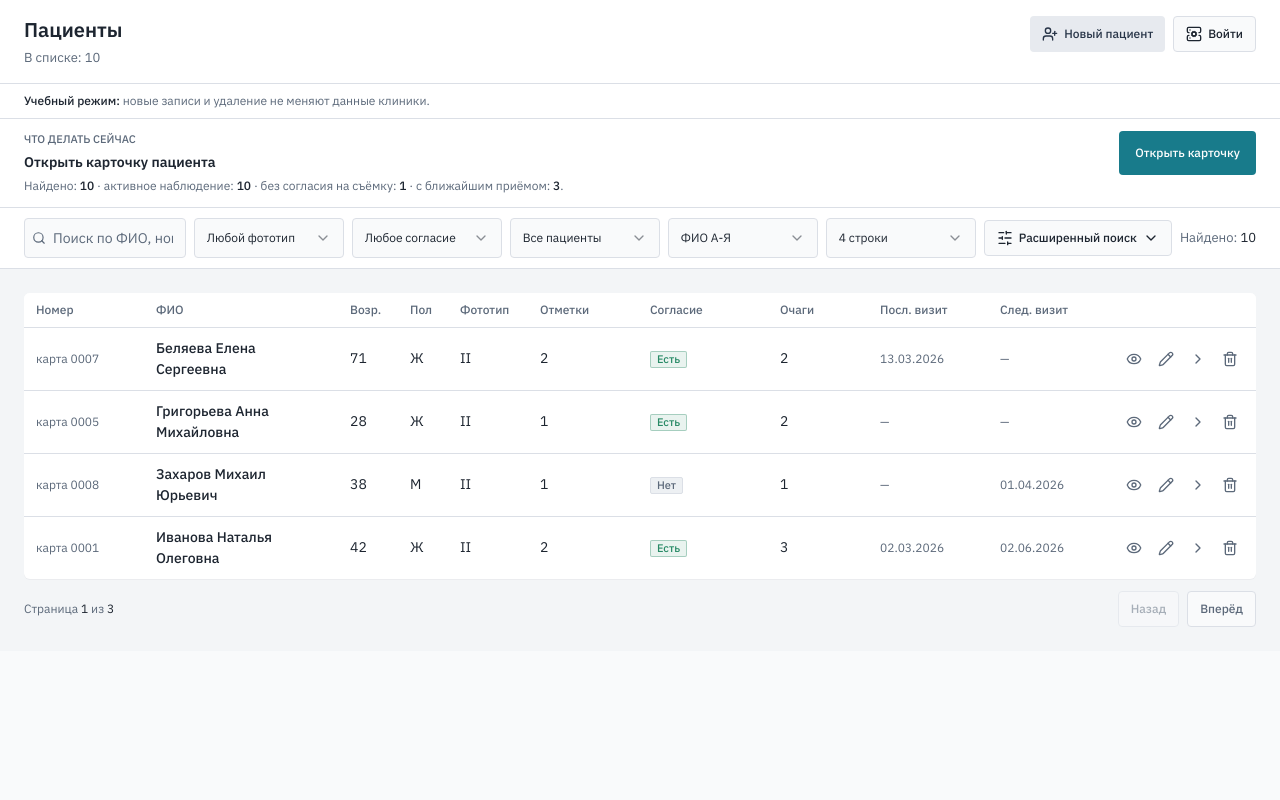
PatientsPage › saves patient edits locally and updates the row without changing total count
Click the button named "Редактировать пациента Иванова Наталья Олеговна": (1166, 548) left=1152, top=534, right=1180, bottom=562
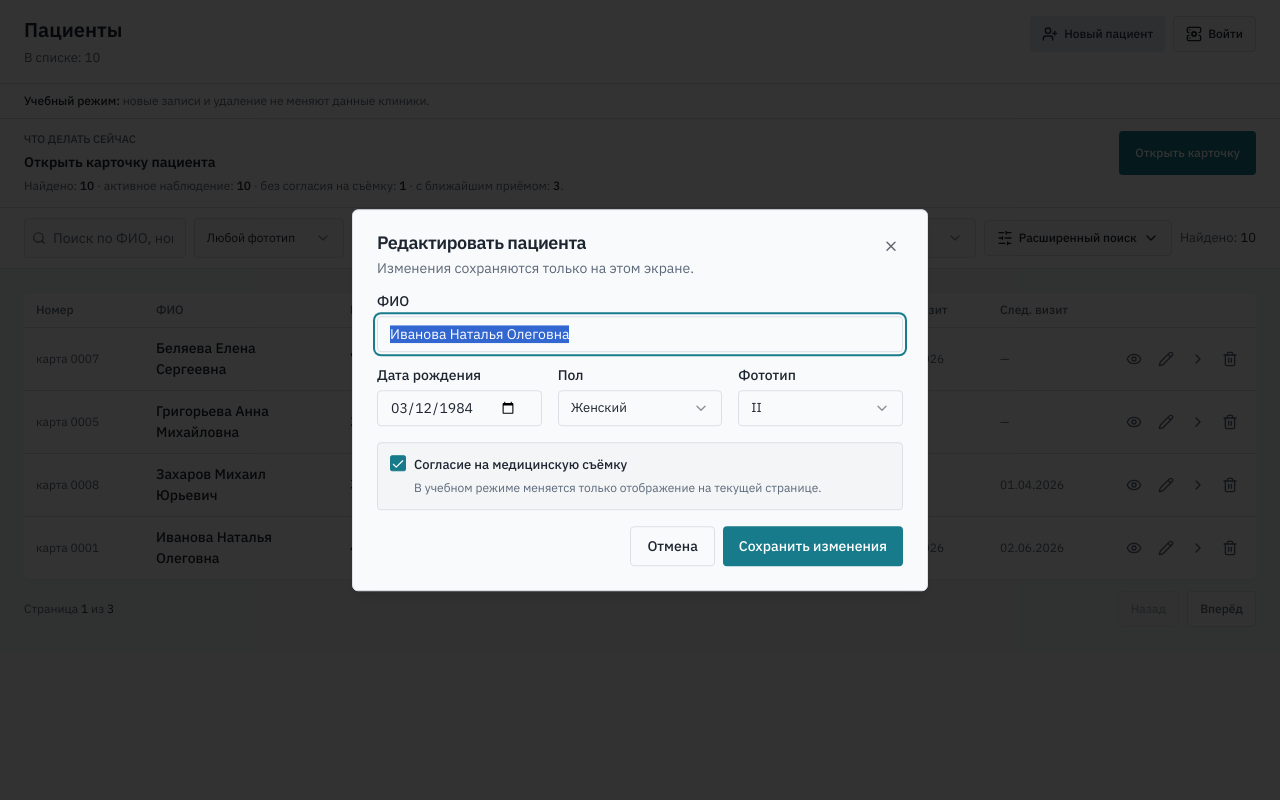
Replace the text in the field labelled "ФИО" with "Иванова Наталья Тестовая": (640, 334) left=377, top=316, right=903, bottom=352
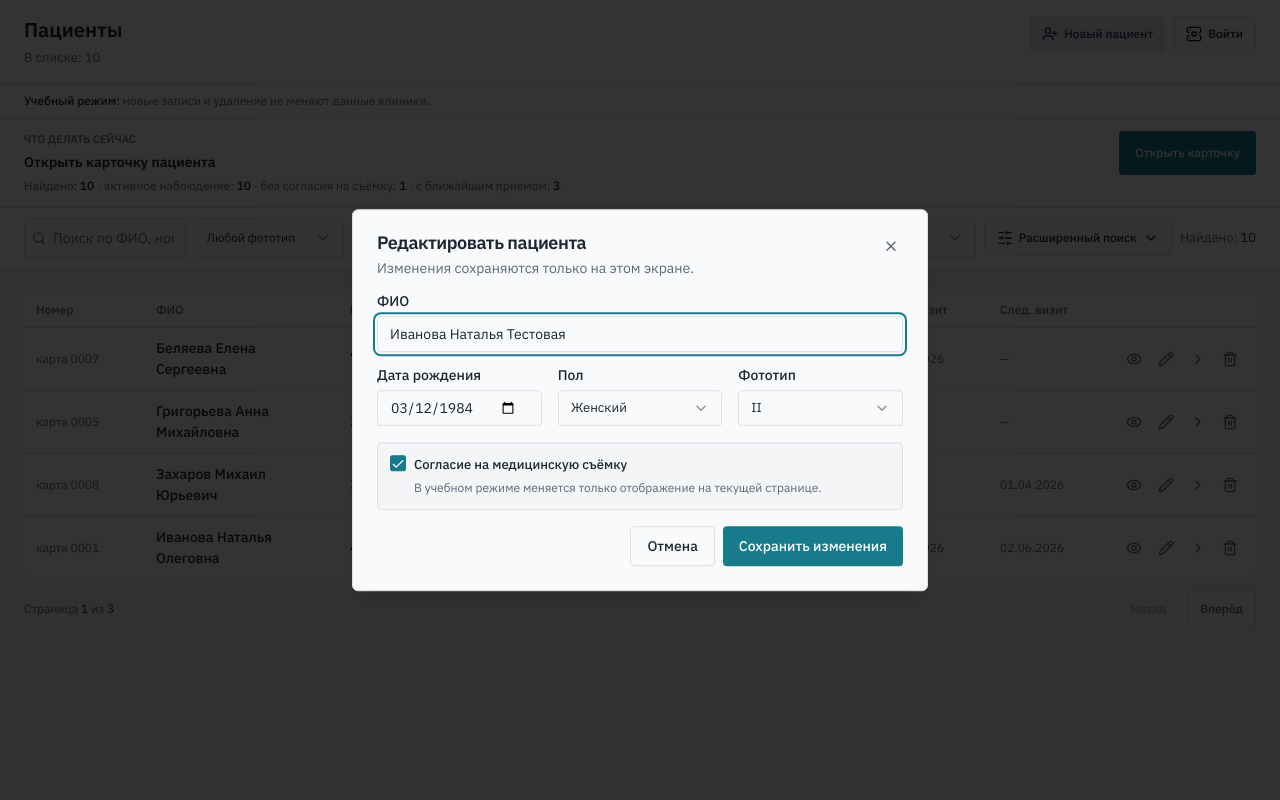
Click the button "Сохранить изменения": (813, 546) left=723, top=526, right=903, bottom=566
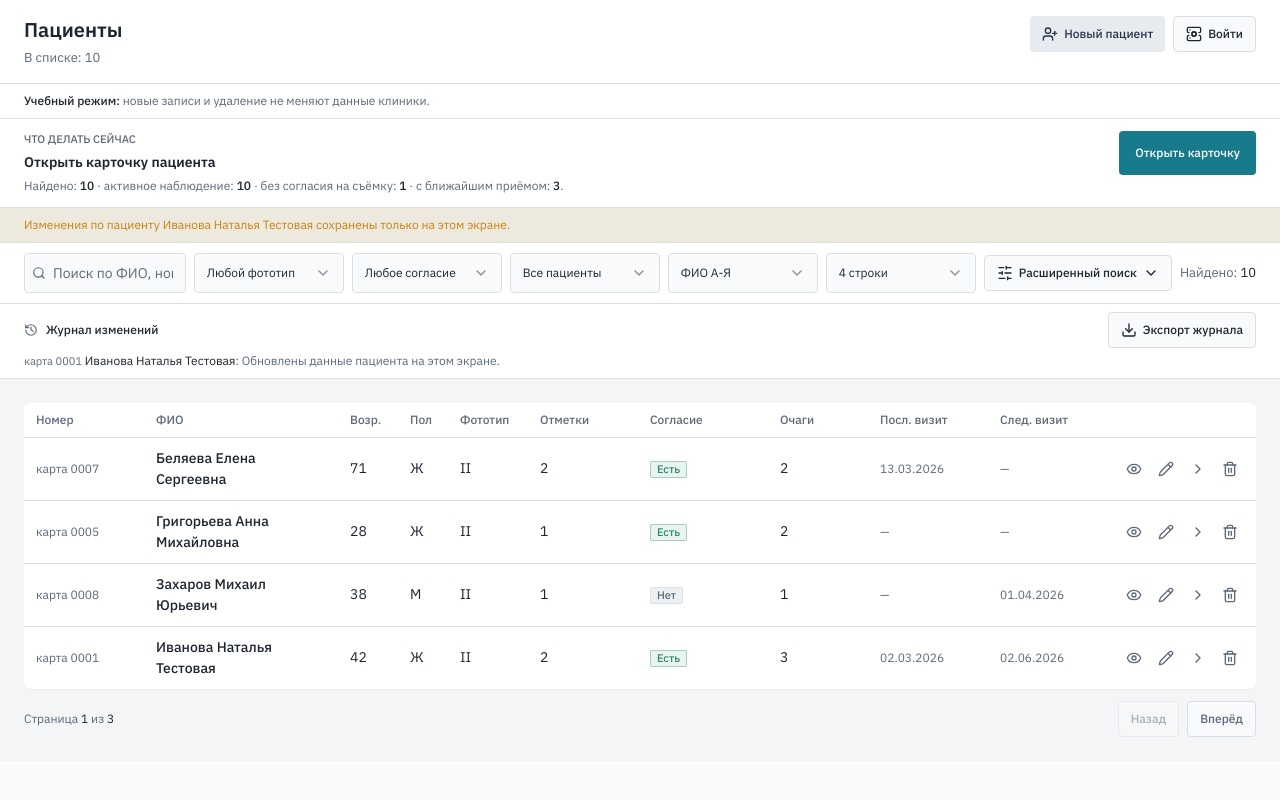
Check: the dialog is gone
Check: the text "Иванова Наталья Тестовая" is shown, box left=85, top=352, right=235, bottom=368
Check: the message shows "Изменения по пациенту Иванова Наталья Тестовая сохранены только на этом экране", box left=24, top=216, right=510, bottom=232
